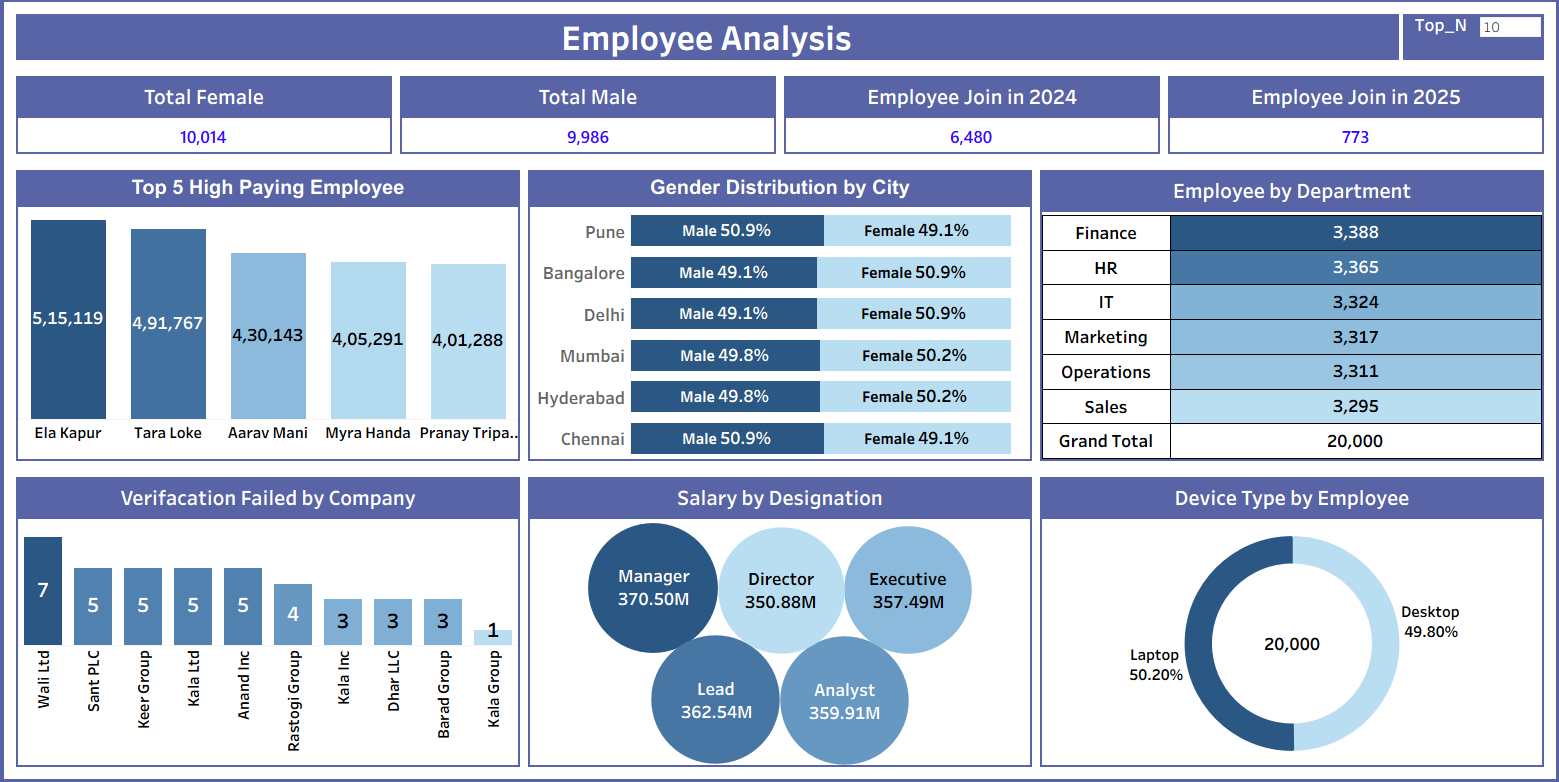

What the dashboard file says about the page in this screenshot:
{"tool":"tableau","page":{"name":"Summary","canvas":[1000,1000],"units":"permille","ordinal":0},"visuals":[{"type":"text","box":[12.7,25,882.6,67.4]},{"type":"parameter","param":"[Parameters].[Parameter 1]","box":[895.3,25,92,67.4]},{"type":"worksheet","title":"Total Female","mark":"Automatic","box":[12.7,102.4,243.7,107.4]},{"type":"worksheet","title":"Total Male","mark":"Automatic","box":[256.4,102.4,243.7,107.4]},{"type":"worksheet","title":"Employee Join in 2024","mark":"Automatic","box":[500,102.4,243.7,107.4]},{"type":"worksheet","title":"Employee Join in 2025","mark":"Automatic","box":[743.6,102.4,243.7,107.4]},{"type":"worksheet","title":"Top 5 High Paying Employee","mark":"Automatic","rows":["Salary"],"cols":["Employee Name"],"box":[12.7,219.7,324.9,373.3]},{"type":"worksheet","title":"Gender Distribution by City","mark":"Automatic","rows":["Office Location"],"cols":["Employee_ID"],"box":[337.6,219.7,324.9,373.3]},{"type":"worksheet","title":"Employee by Department","mark":"Square","rows":["Department"],"box":[662.4,219.7,324.9,373.3]},{"type":"worksheet","title":"Verifacation Failed by Company","mark":"Automatic","rows":["Employee_ID (Background Verification)"],"cols":["Previous Company"],"box":[12.7,603,324.9,372]},{"type":"worksheet","title":"Salary by Designation","mark":"Circle","box":[337.6,603,324.9,372]},{"type":"worksheet","title":"Device Type by Employee","mark":"Pie","rows":["Calculation_0804903506362369","Calculation_0804903506362369"],"box":[662.4,603,324.9,372]}]}

Visuals, with their boxes on the dashboard's canvas, which has no fixed pixel size, in thousandths of its width and height (x1, y1, x2, y2). These are canvas units, not pixel positions in the 1559x782 screenshot, which may show the page scaled, cropped or inside an application window:
text: [left=13, top=25, right=895, bottom=92]
parameter: [left=895, top=25, right=987, bottom=92]
"Total Female" worksheet: [left=13, top=102, right=256, bottom=210]
"Total Male" worksheet: [left=256, top=102, right=500, bottom=210]
"Employee Join in 2024" worksheet: [left=500, top=102, right=744, bottom=210]
"Employee Join in 2025" worksheet: [left=744, top=102, right=987, bottom=210]
"Top 5 High Paying Employee" worksheet: [left=13, top=220, right=338, bottom=593]
"Gender Distribution by City" worksheet: [left=338, top=220, right=662, bottom=593]
"Employee by Department" worksheet (Square marks): [left=662, top=220, right=987, bottom=593]
"Verifacation Failed by Company" worksheet: [left=13, top=603, right=338, bottom=975]
"Salary by Designation" worksheet (Circle marks): [left=338, top=603, right=662, bottom=975]
"Device Type by Employee" worksheet (Pie marks): [left=662, top=603, right=987, bottom=975]
